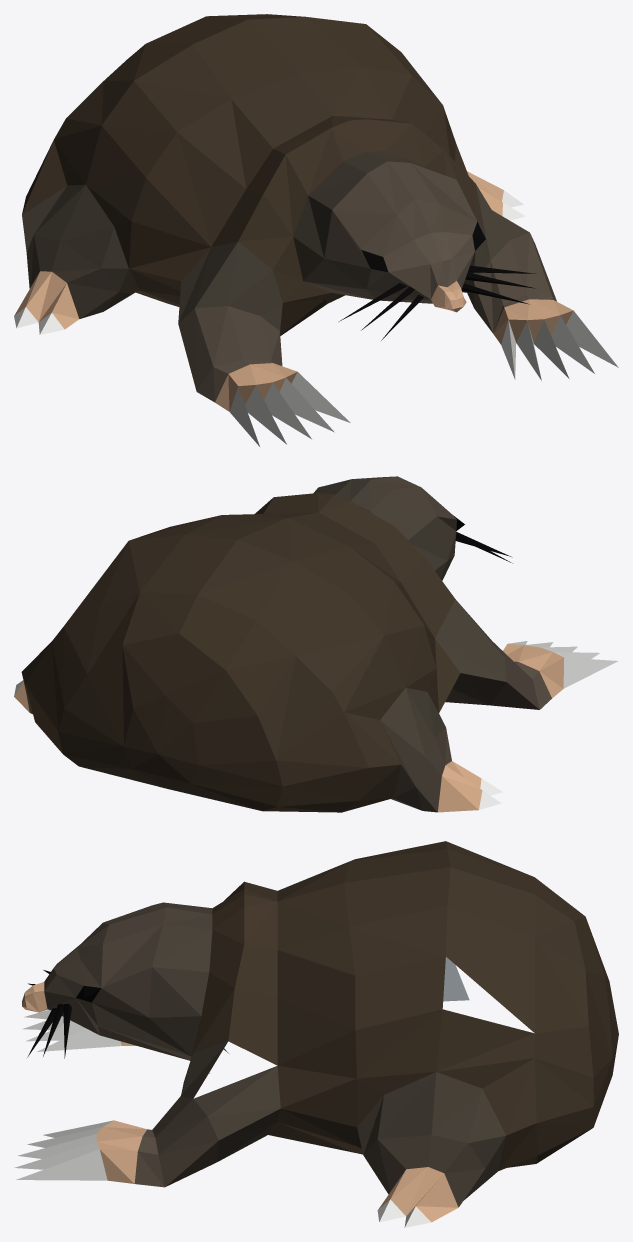
File: giant-mole.gltf
3 views of the same model, one above another, from view 1: azimuth 30°, elevation 25°; view 2: azimuth 150°, elevation 25°; view 3: azimuth 270°, elevation 25° (orthographic). The views are drawn at different scales.
Bounding box in the file's own units: 376 × 163 × 381.
Materials: 2 (2 with a texture image).
